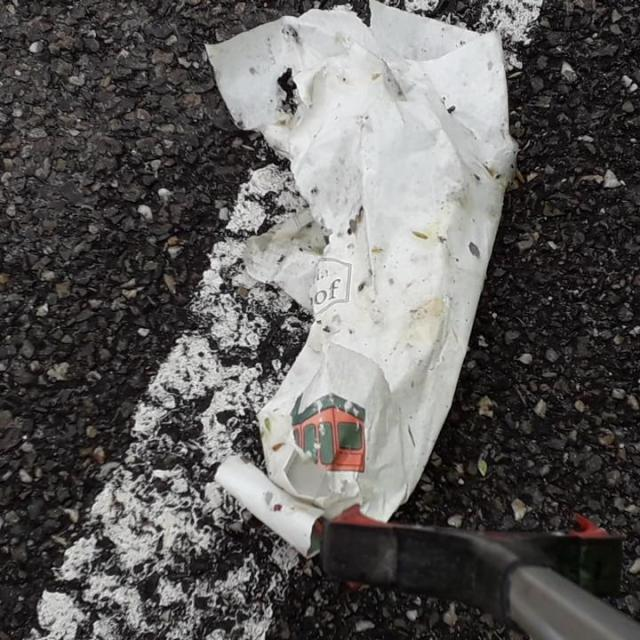Paper: (200, 3, 520, 565)
